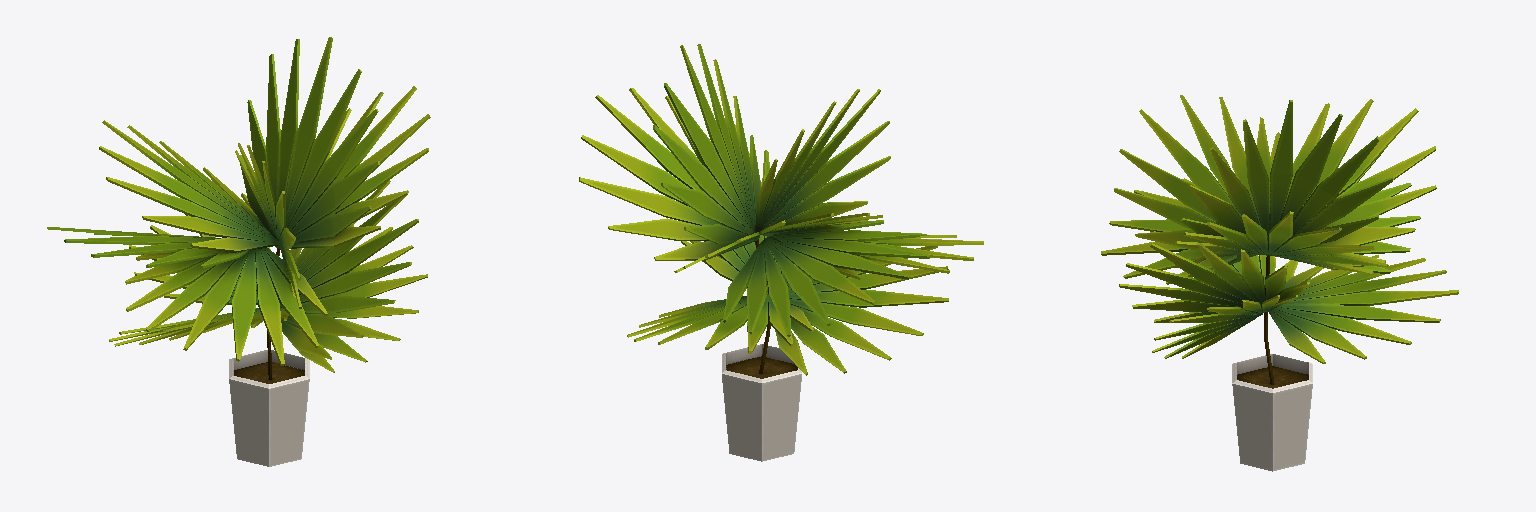
3 renders of one model, left to right at view 1: azimuth 30°, elevation 25°; view 2: azimuth 150°, elevation 25°; view 3: azimuth 270°, elevation 25°, orthographic.
Visible parts, largest first — view 1: UmbrellaPalmTree_mesh; view 2: UmbrellaPalmTree_mesh; view 3: UmbrellaPalmTree_mesh.
Boxes of the visible parts, x1,y1,x2,y2 form: UmbrellaPalmTree_mesh: [47, 37, 430, 466]; UmbrellaPalmTree_mesh: [579, 44, 983, 461]; UmbrellaPalmTree_mesh: [1101, 95, 1458, 471].
Bounding box in the file's own units: 8.24 × 9.23 × 7.68.
Materials: 1 (1 with a texture image).